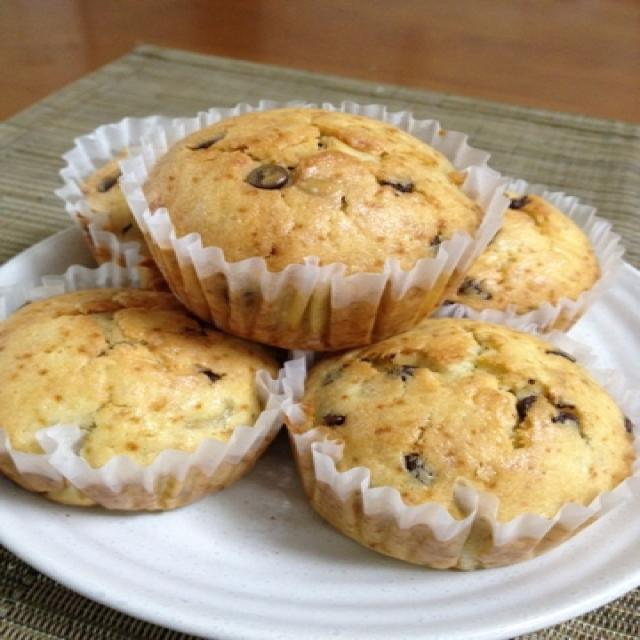炸货点心: (0, 88, 633, 568)
面包点心: (0, 88, 633, 568)
